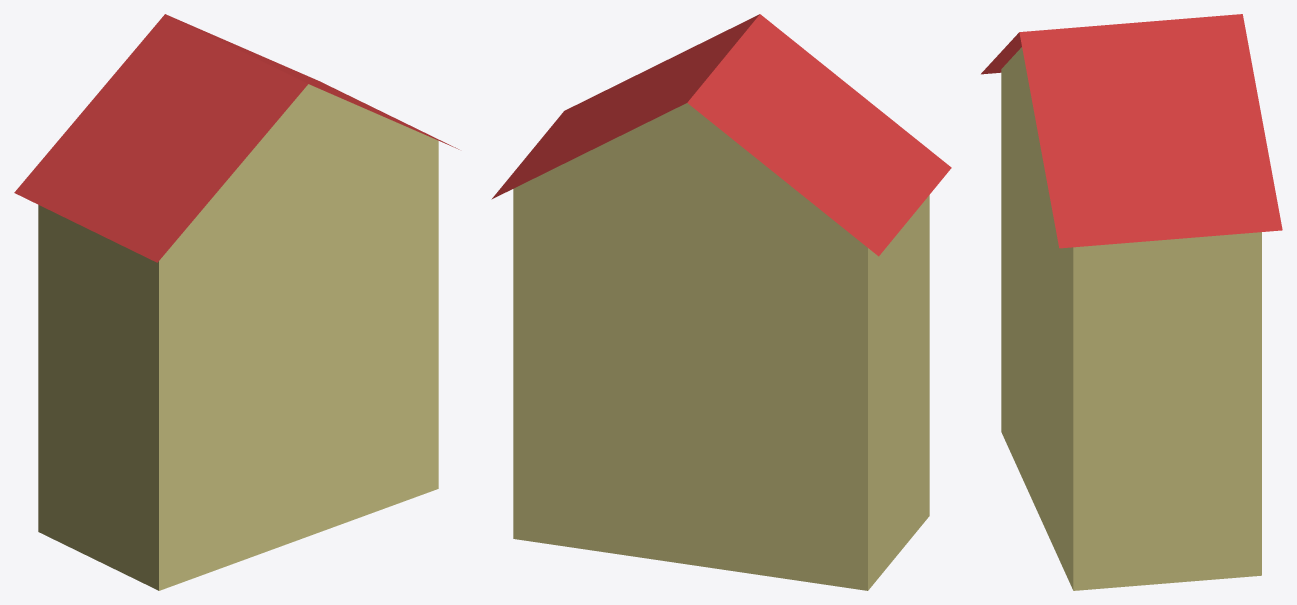
3 renders of one model, left to right at view 1: azimuth 30°, elevation 25°; view 2: azimuth 150°, elevation 25°; view 3: azimuth 270°, elevation 25°, orthographic. The views are drawn at different scales.
Bounding box in the file's own units: 6.39 × 4.25 × 7.44.
